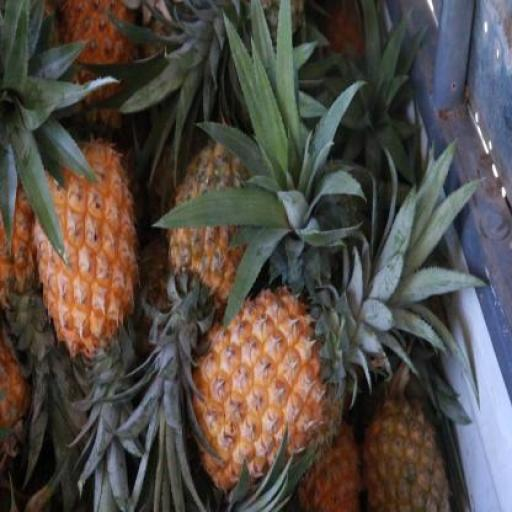------------------------------: (366, 383, 450, 512)
Pineapple - v8 v1: (188, 281, 336, 491), (33, 135, 145, 362)
